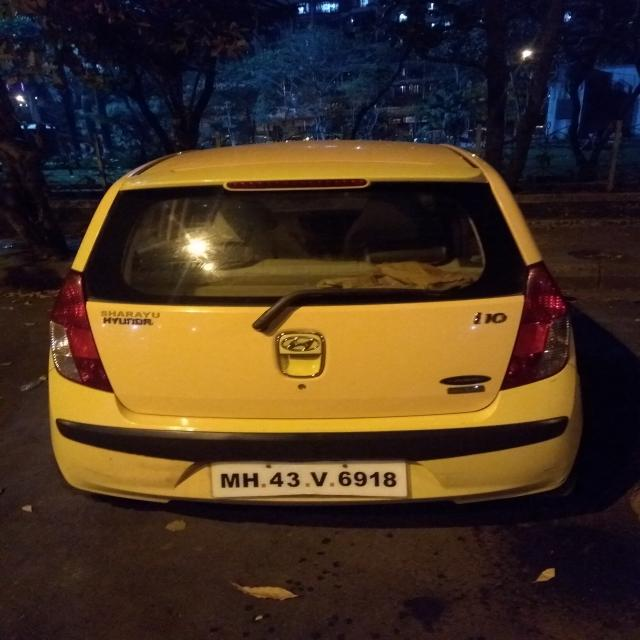Number-Plate: (209, 458, 408, 497)
